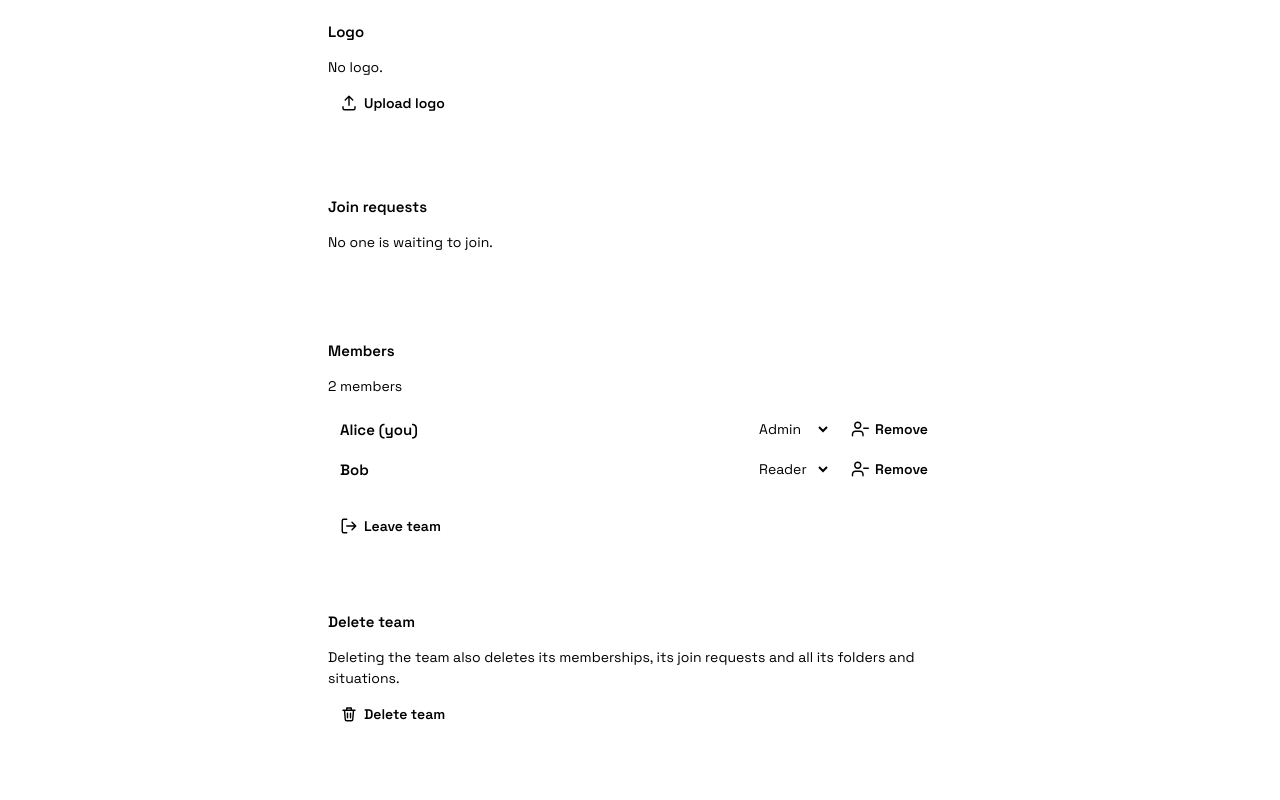
team page › tells the last Admin why their role can't change
(page scrolled)
Select "Reader" in the dropdown named "Role of Alice (you)" in the row of "Alice (you)" at (789, 429), box [747,419,831,439]
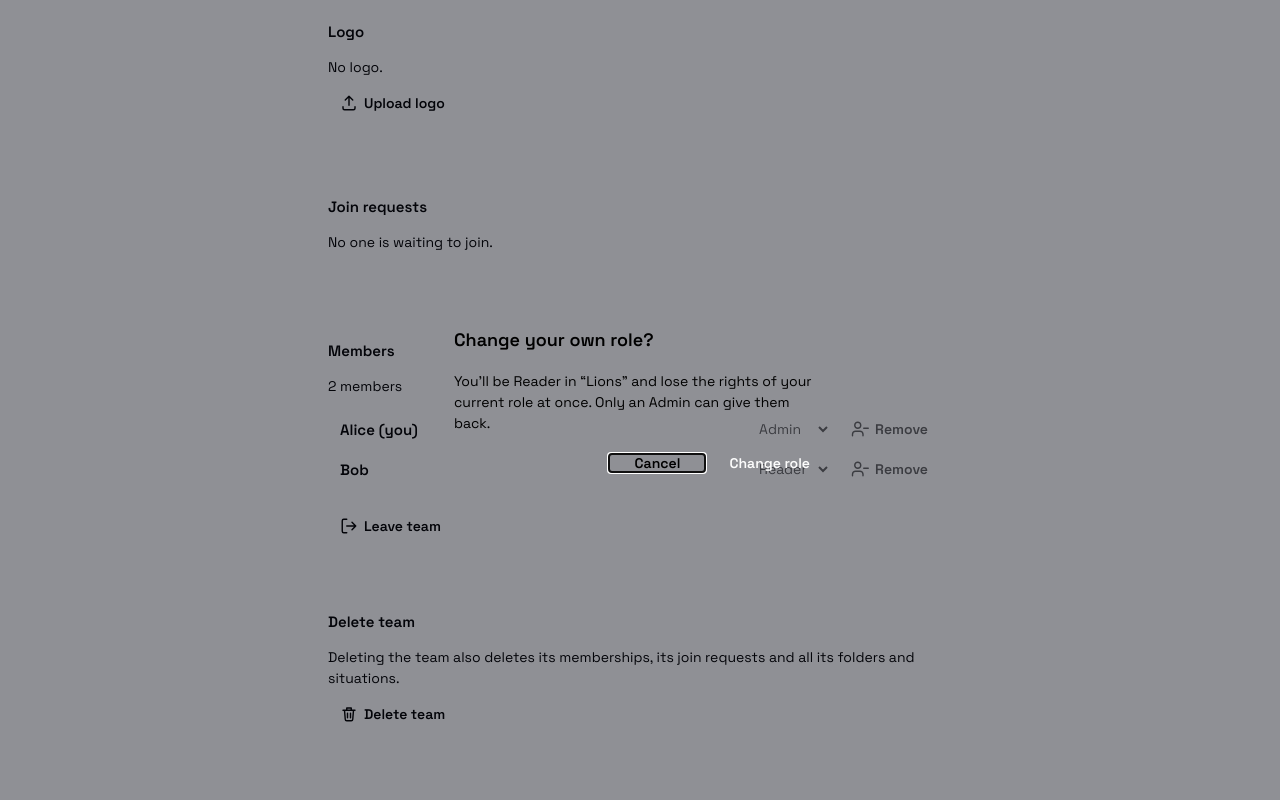
Click the button "Change role" at (770, 463), box [714,454,826,472]
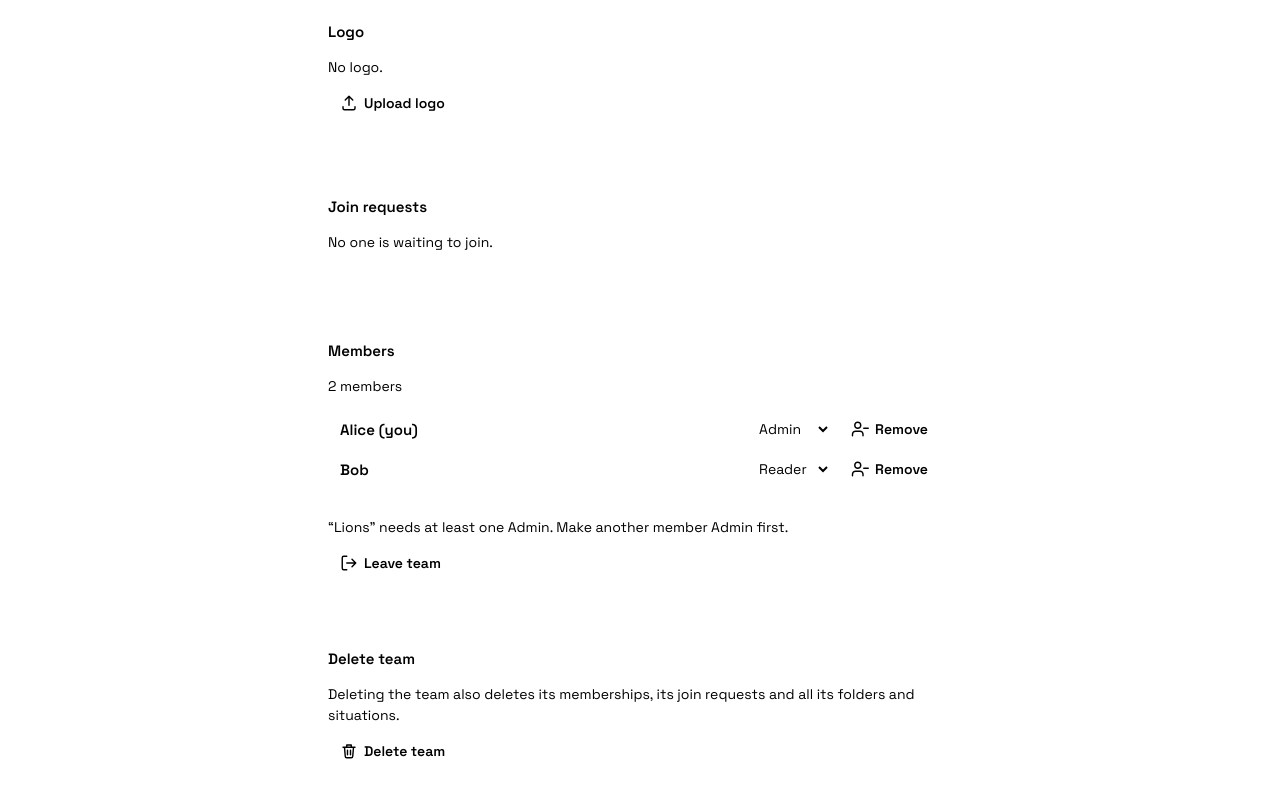
Now the message reads "“Lions” needs at least one Admin. Make another member Admin first.", box [328,518,788,536]
